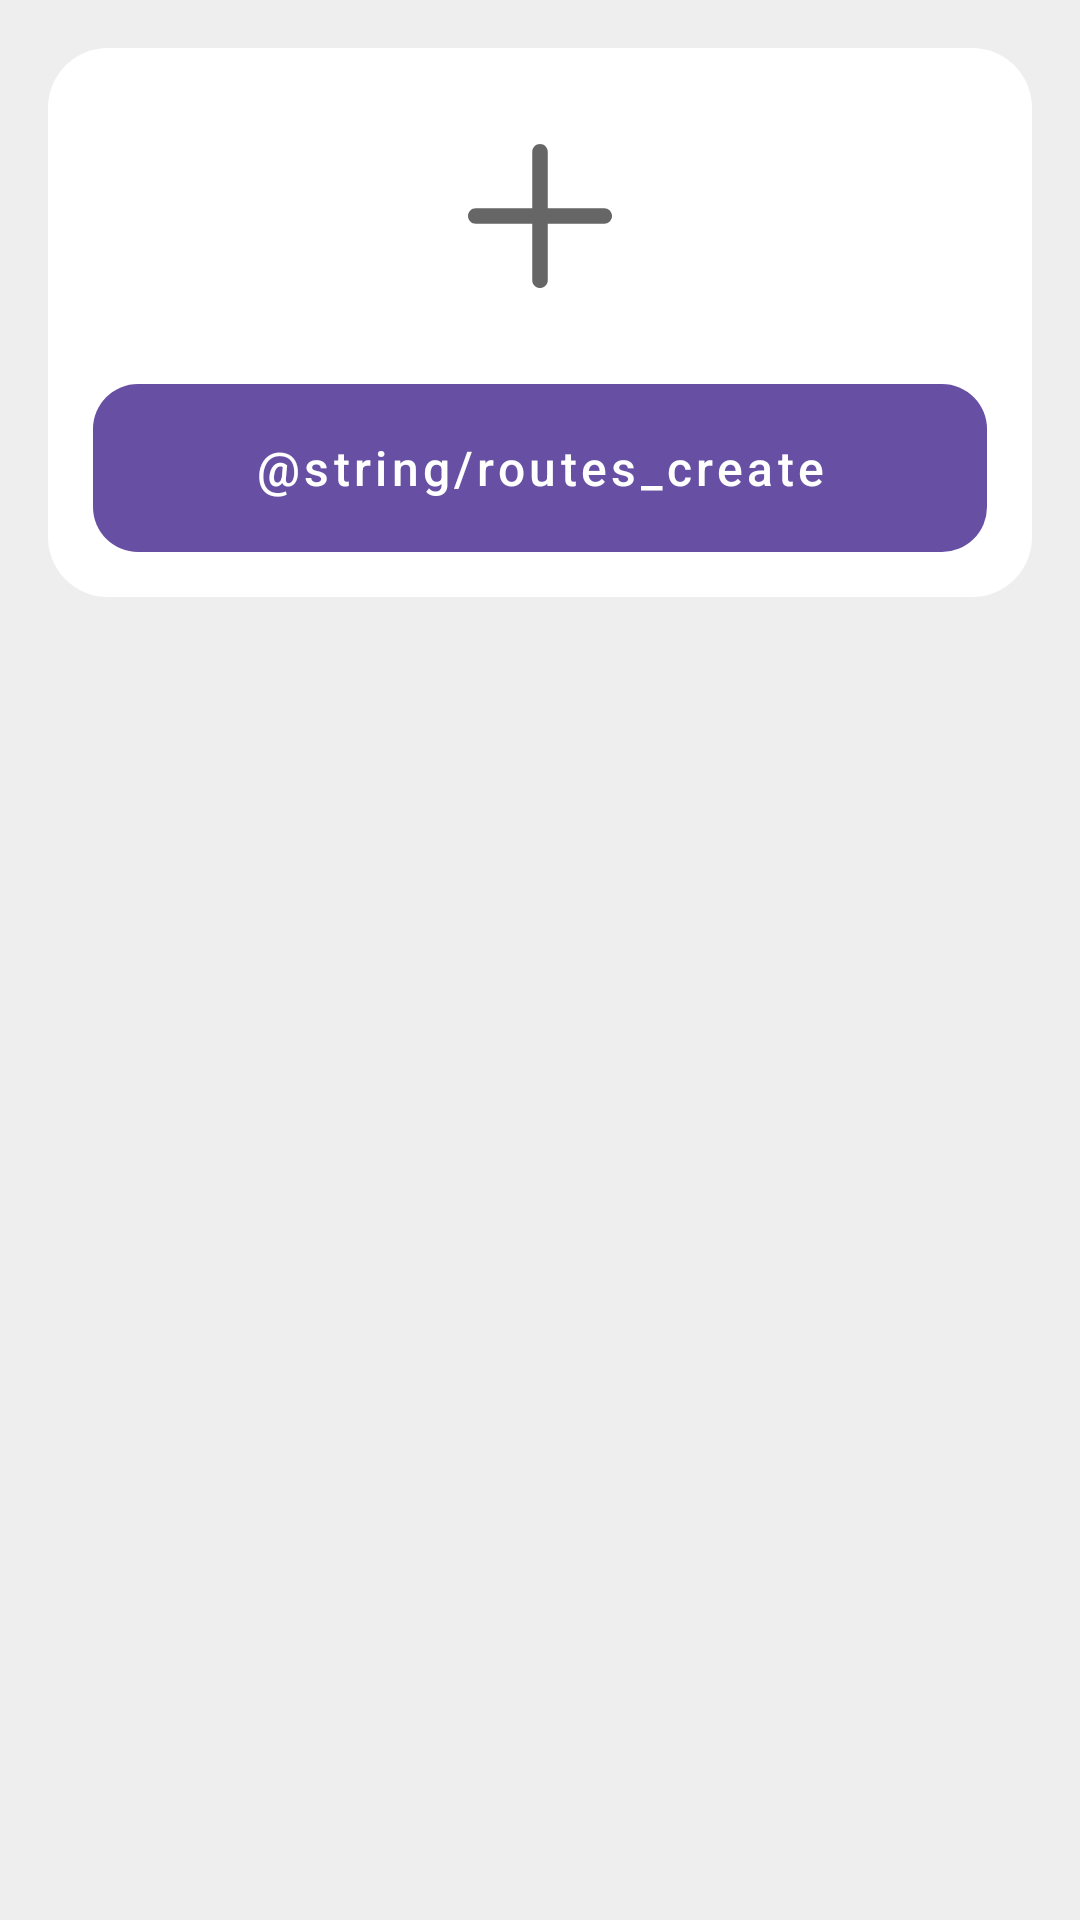

Locate icon controls on the screen. Image size 1080px x 1920px, boxes as Rect(x1, y1, x2, y2).
plus: Rect(468, 144, 612, 288)
